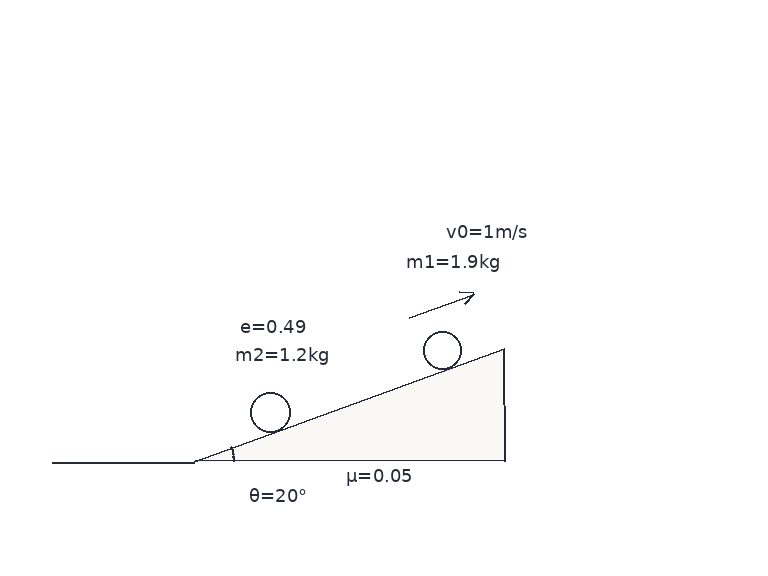ball: (248, 390, 292, 434), (421, 329, 463, 371)
ramp: (192, 346, 506, 463)
